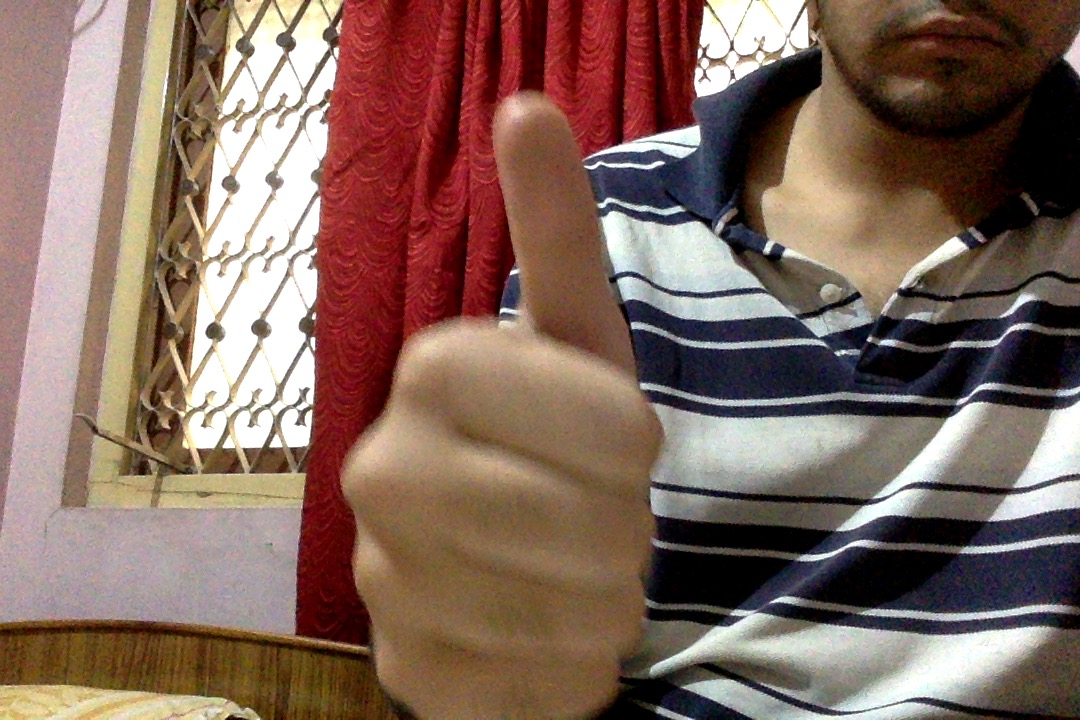hand: (319, 92, 685, 717)
